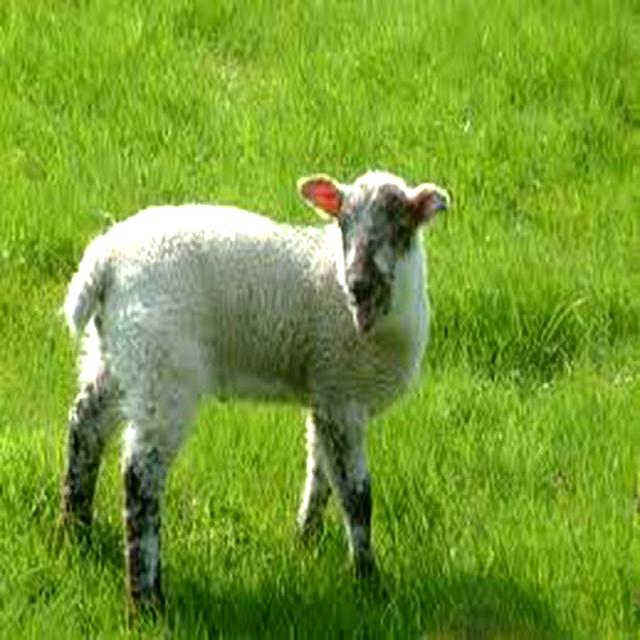sheep: (62, 172, 452, 623)
